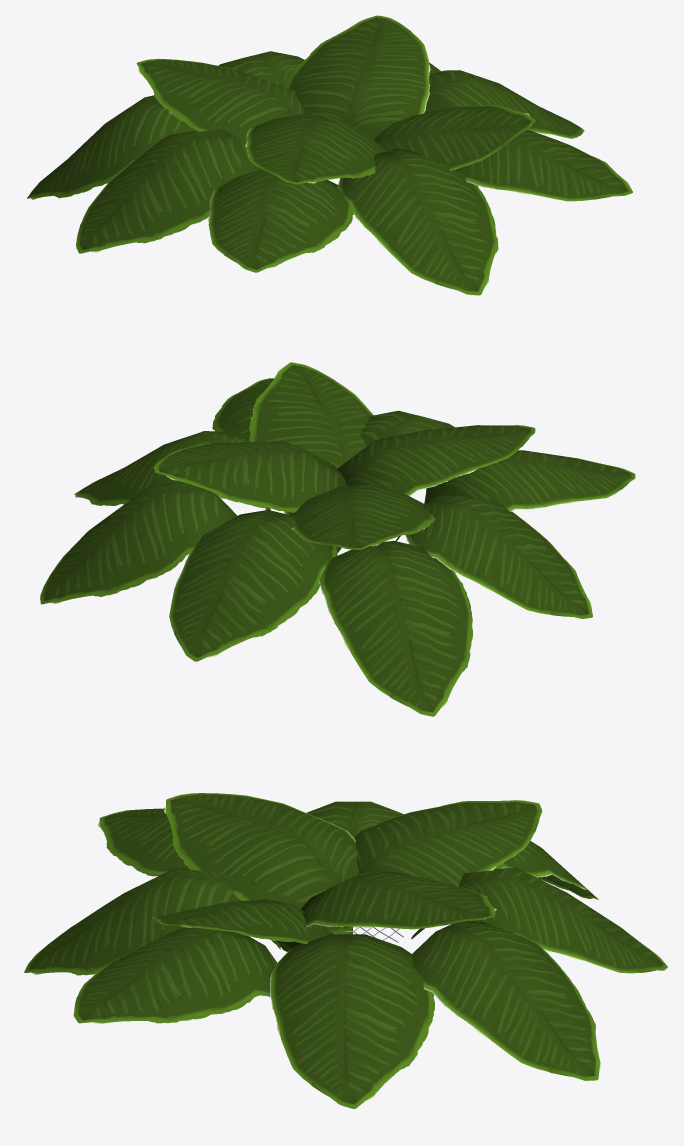
The model's file is Leaves.fbx.
3 renders of one model, top to bottom at view 1: azimuth 30°, elevation 25°; view 2: azimuth 150°, elevation 25°; view 3: azimuth 270°, elevation 25°, orthographic. The views are drawn at different scales.
Visible parts, largest first — view 1: polySurface104; view 2: polySurface104; view 3: polySurface104.
Part boxes in pixels (x1,y1,x2,y2): polySurface104: [27, 15, 632, 295]; polySurface104: [40, 362, 635, 716]; polySurface104: [24, 793, 667, 1108].
Size of the model in its own units: 489 by 144 by 484.
